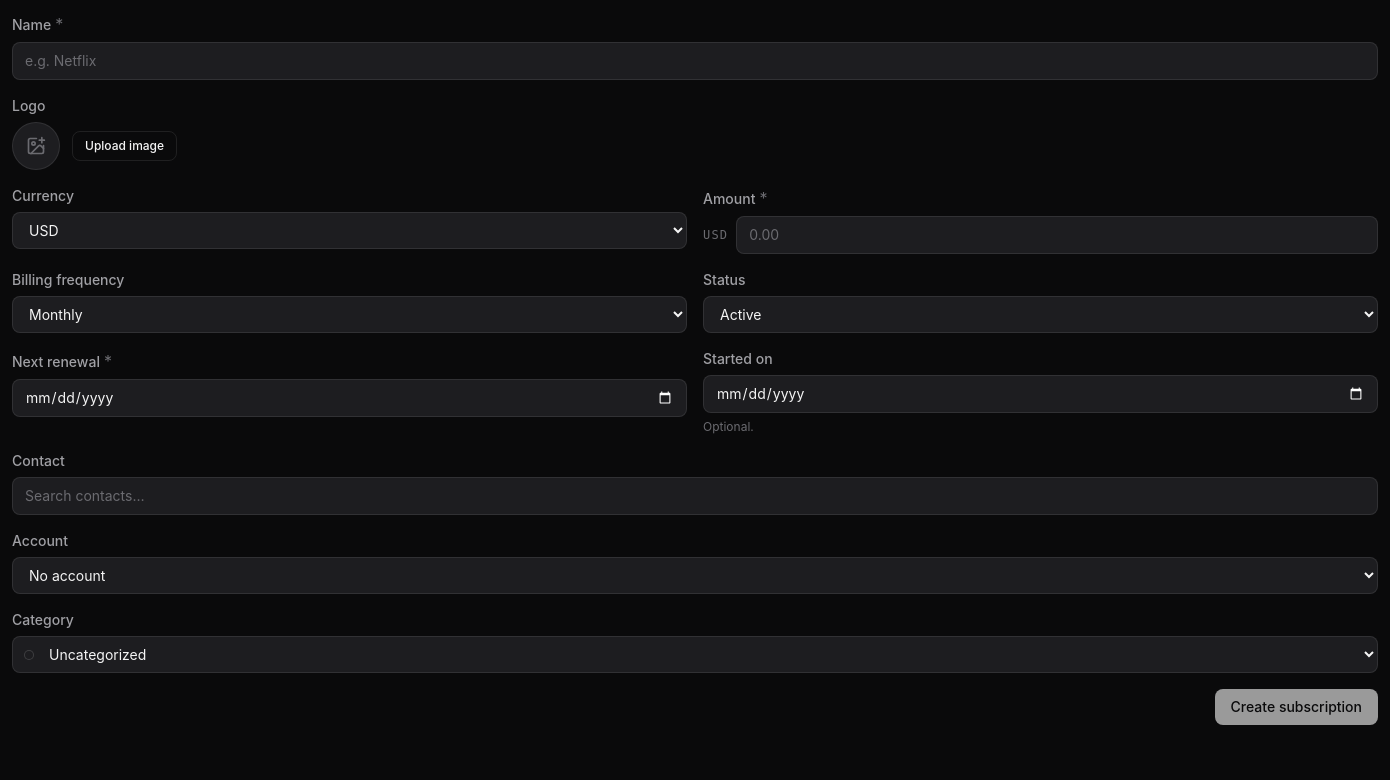
Test case: SubscriptionForm › surfaces the non-positive amount error on the amount field
This screenshot has width=1390, height=780.
Type "Freebie" into the field labelled "Name".
click(695, 61); type("Freebie")  # box [12,42,1378,80]
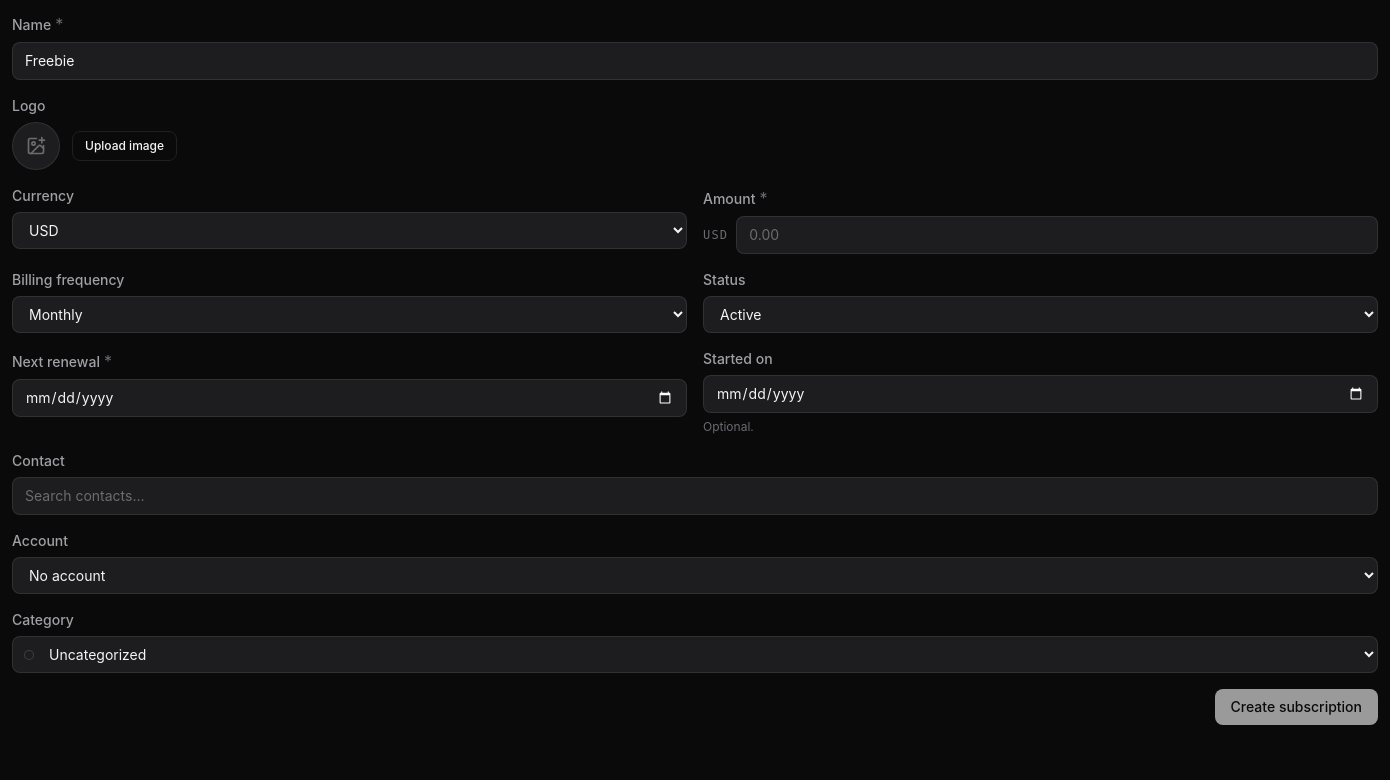
Type "0" into the field labelled "Amount".
click(1057, 235); type("0")  # box [736,216,1378,254]
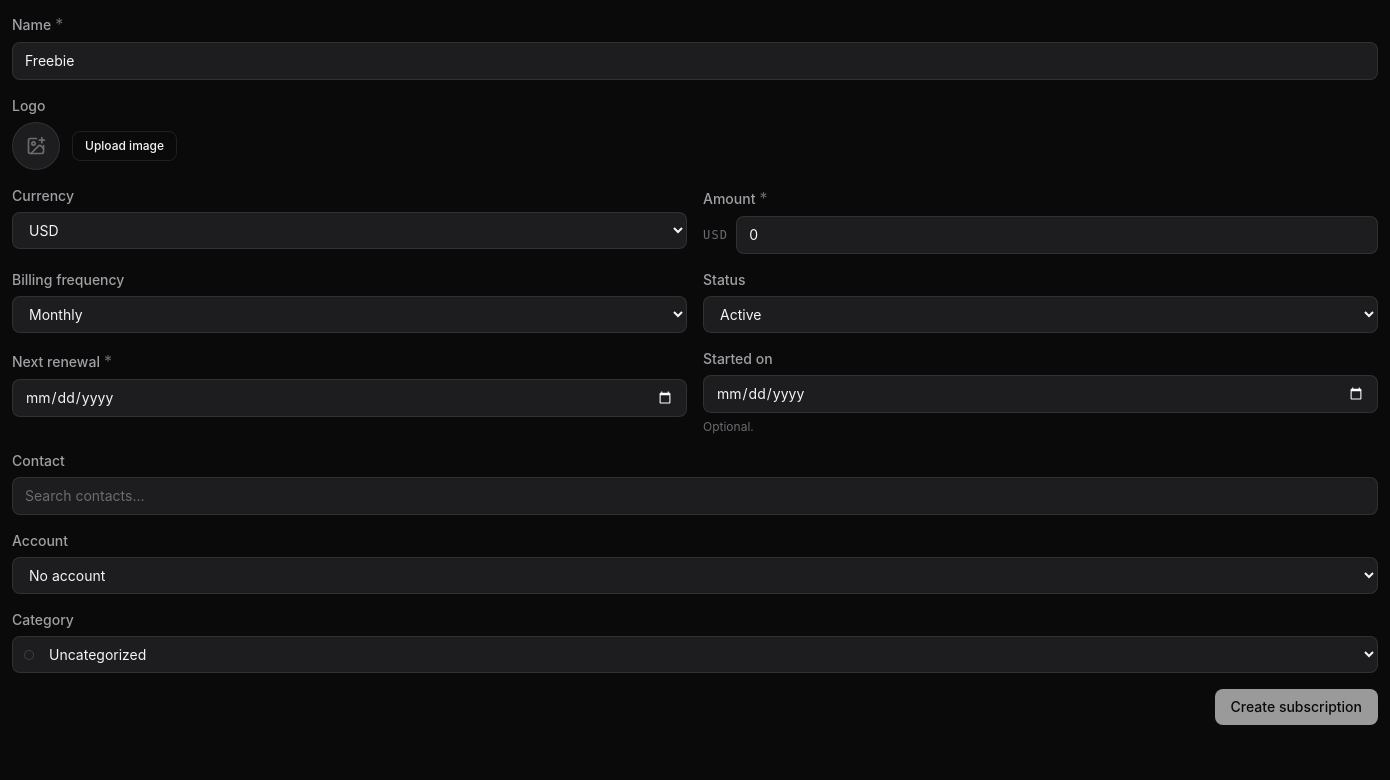
Type "2026-10-01" into the date field labelled "Next renewal".
click(350, 398); type("2026-10-01")  # box [12,379,687,417]
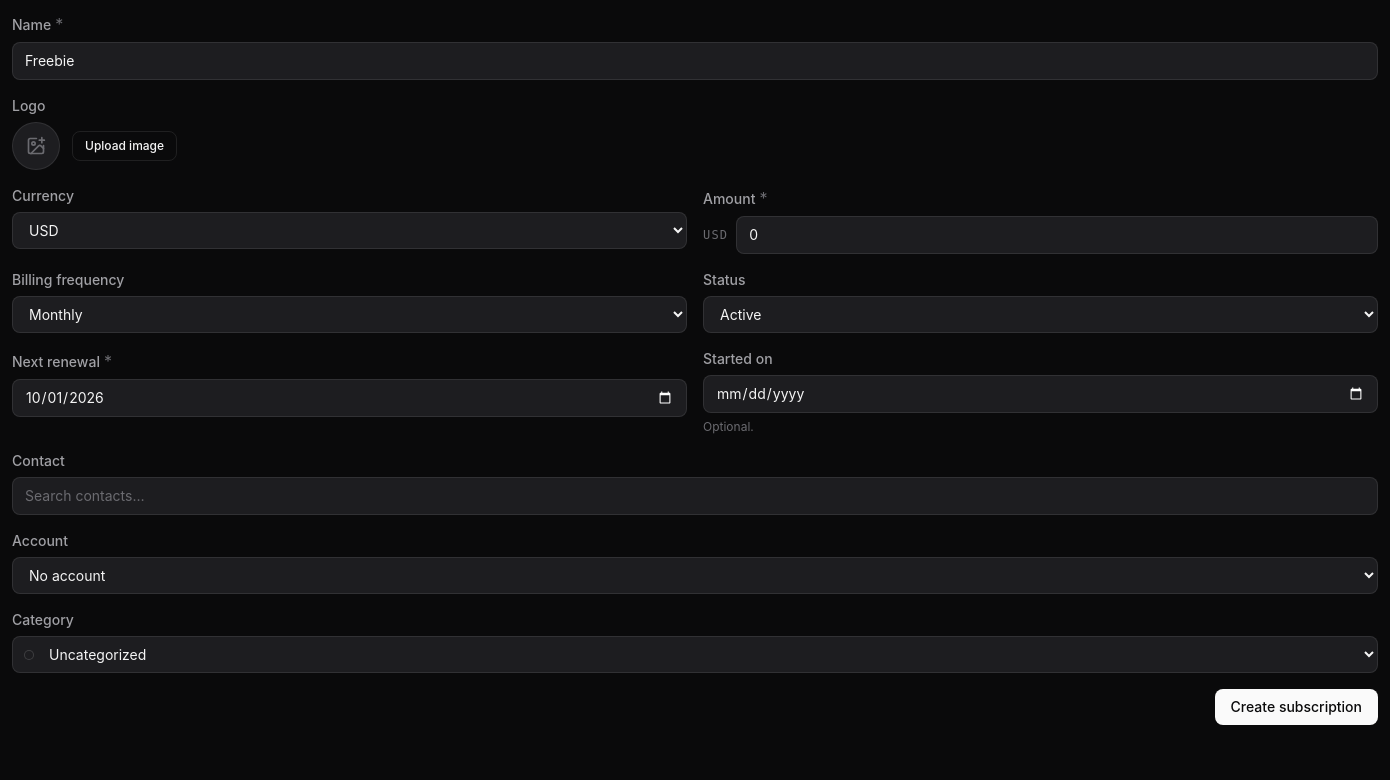
Click the button "Create subscription".
click(1296, 707)  # box [1215,689,1378,725]
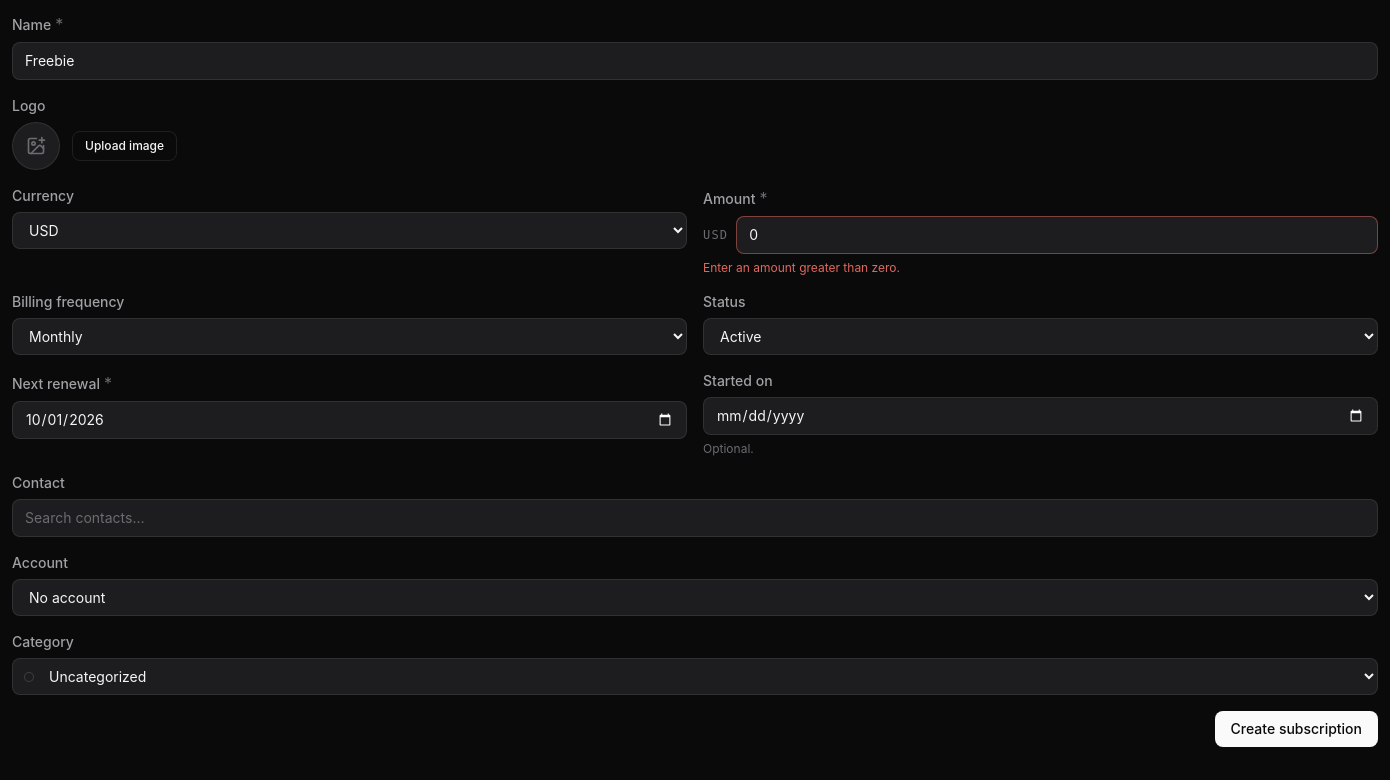
Check: the text "Enter an amount greater than zero." is shown, box [703,260,900,275]
